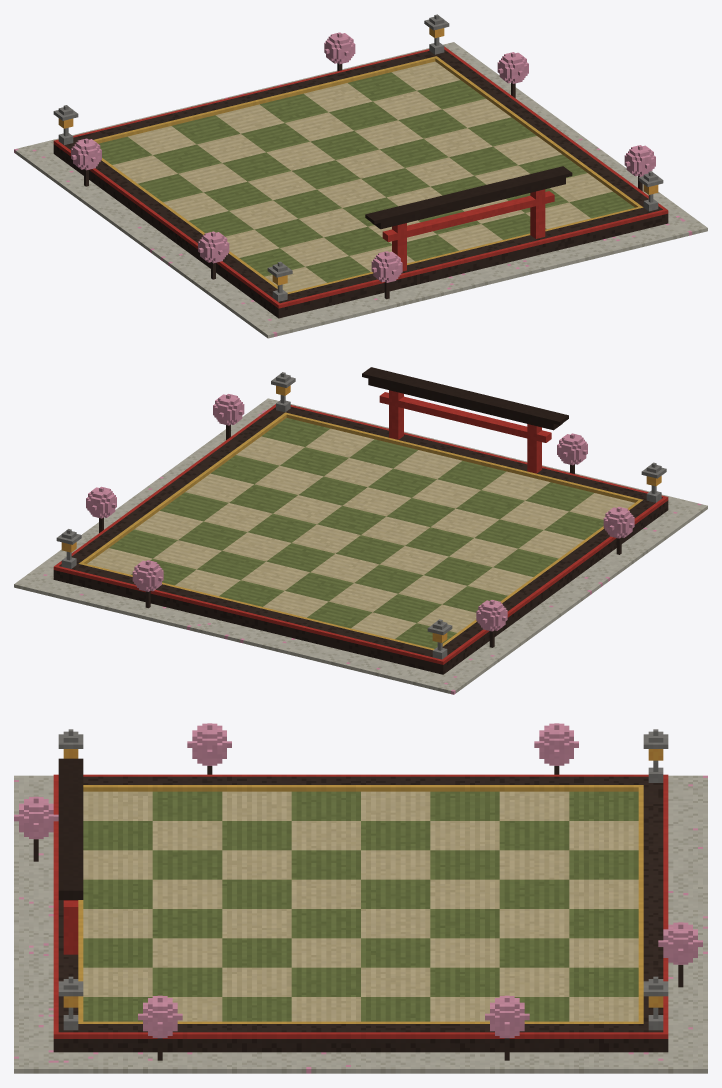
Rendered from samurai_board.glb.
3 renders of one model, top to bottom at view 1: azimuth 30°, elevation 25°; view 2: azimuth 150°, elevation 25°; view 3: azimuth 270°, elevation 25°, orthographic. The views are drawn at different scales.
Size of the model in its own units: 14 by 2.3 by 14.
